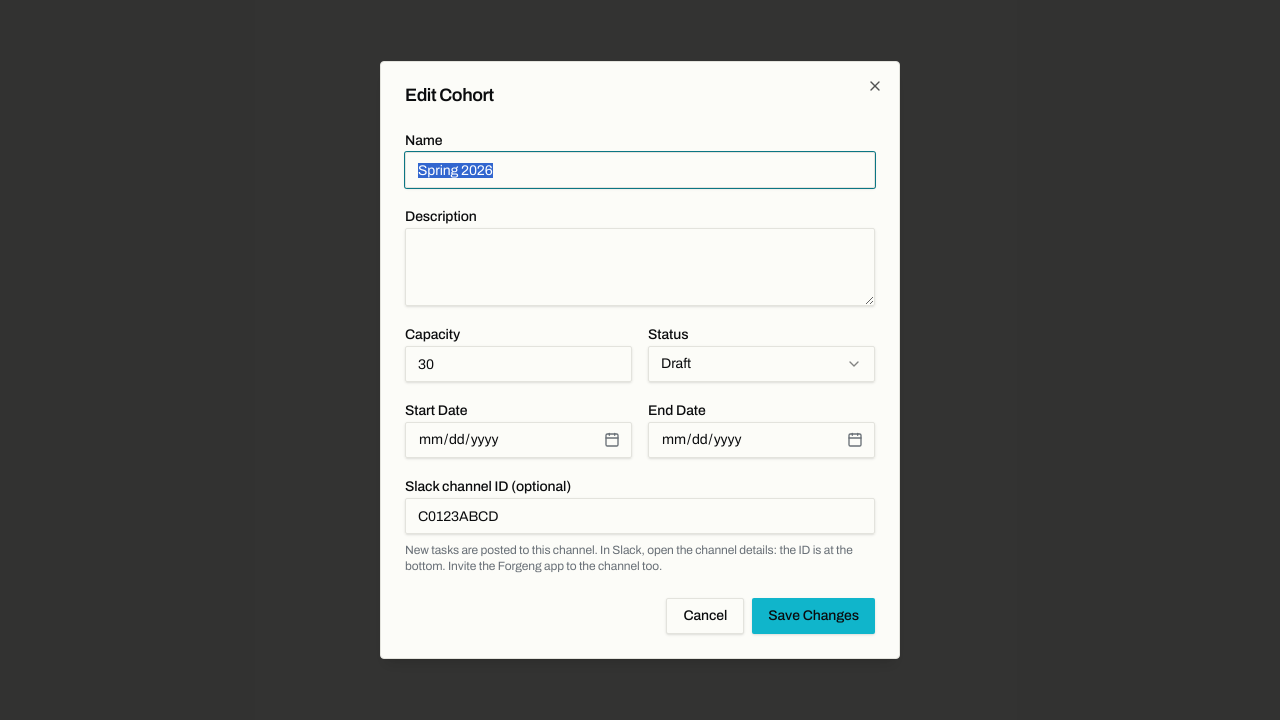
Scenario: cohort FormDialog › keeps the Slack channel when removing it is cancelled
Clear the field labelled "Slack channel ID (optional)" at (640,516), box [405, 498, 875, 534]
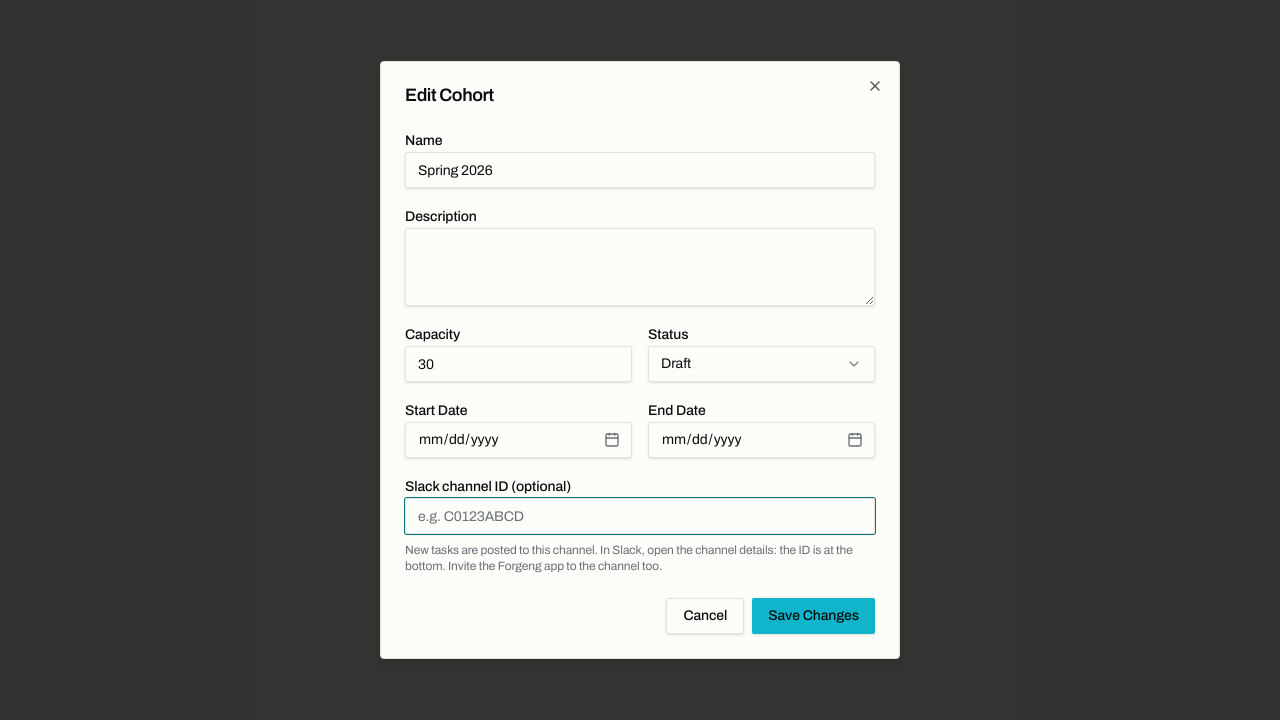
Click the button "Save Changes" at (814,616), box [752, 598, 875, 634]
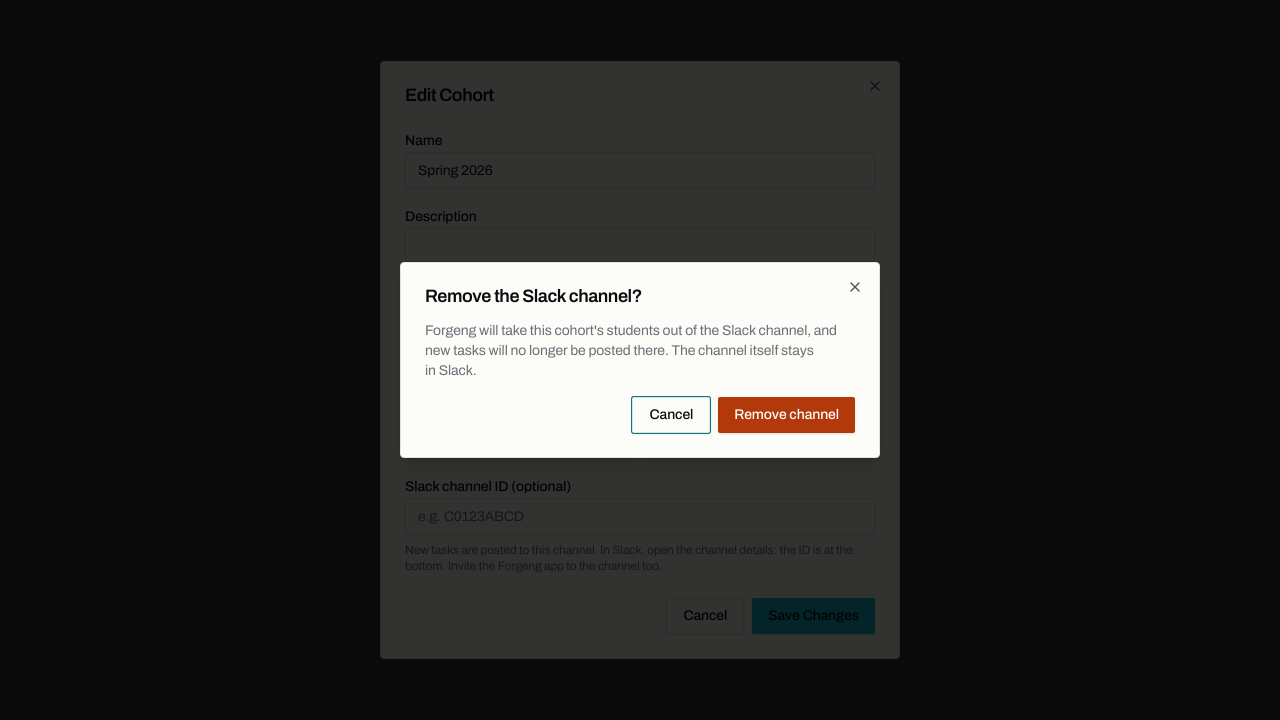
Click the button "Cancel" at (671,415), box [632, 397, 710, 433]
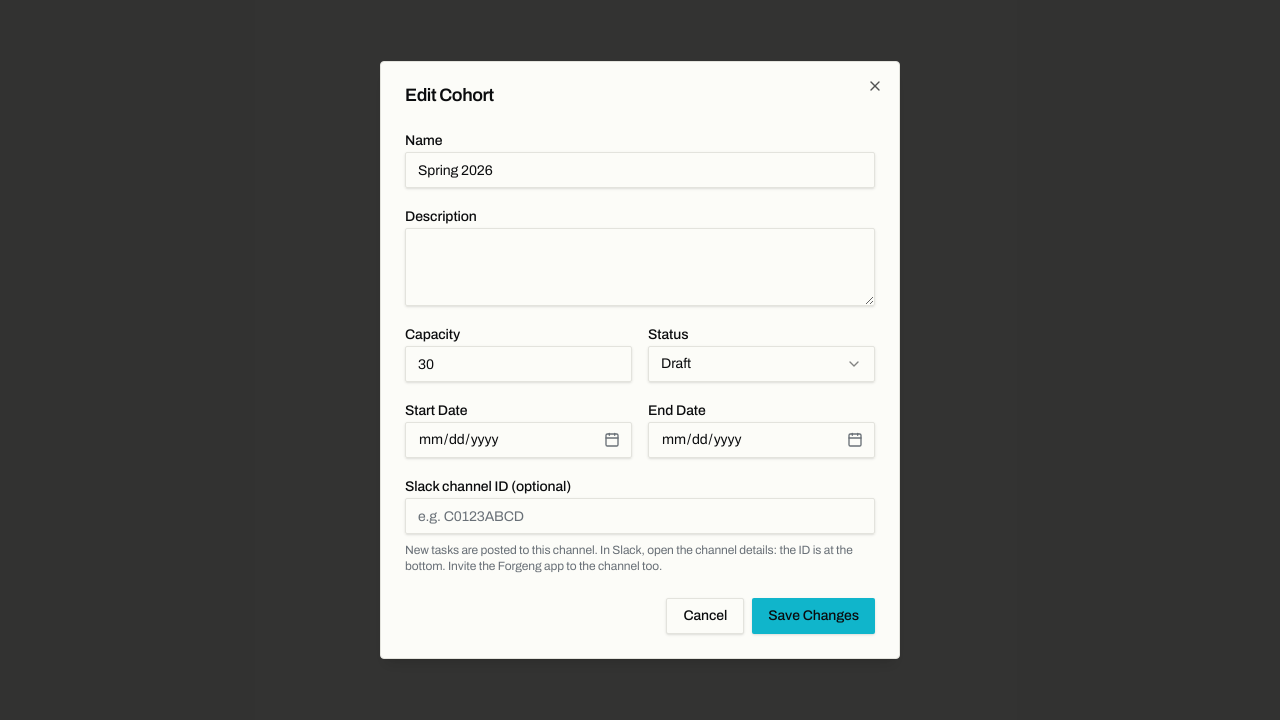
Now the heading "Remove the Slack channel?" is gone
